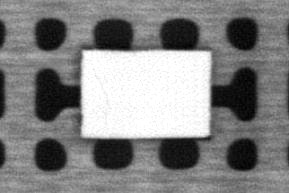DIE_CRACK: (88, 61, 111, 108)
